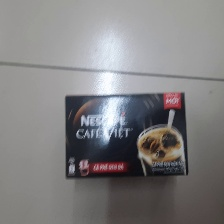CF Viet: (62, 90, 192, 181)
